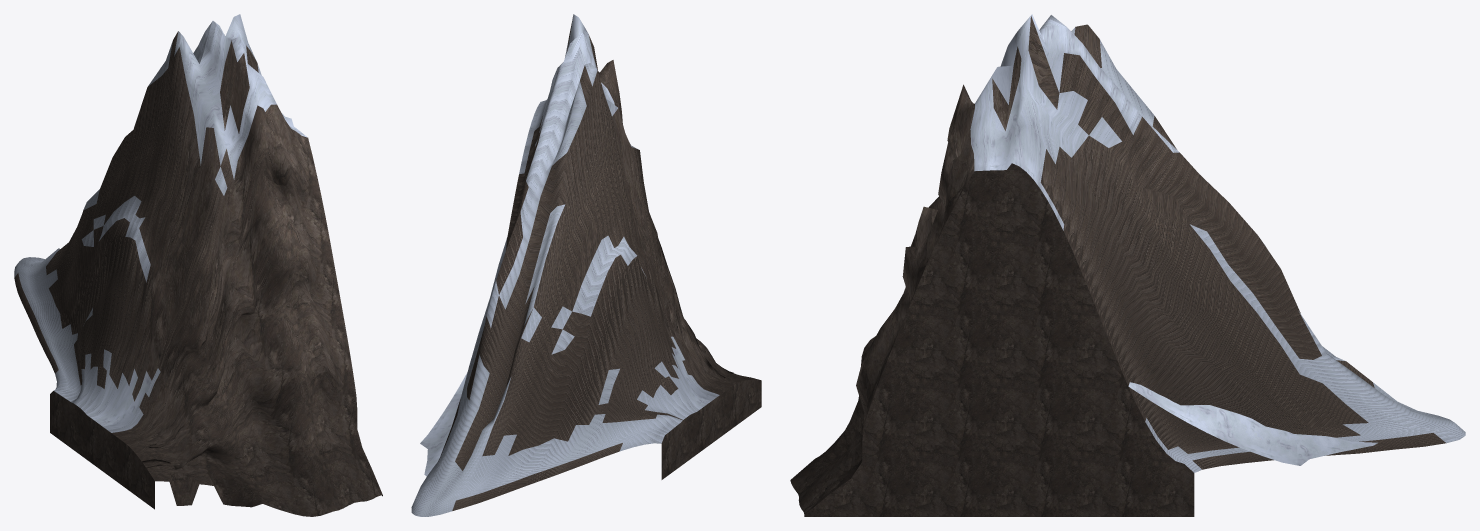
Rendered from seacliff_endcap_left_h8_a_v5_winter.glb.
3 views of the same model, side by side, from view 1: azimuth 30°, elevation 25°; view 2: azimuth 150°, elevation 25°; view 3: azimuth 270°, elevation 25° (orthographic). The views are drawn at different scales.
Visible parts, largest first — view 1: seacliff_endcap_left_h8_a; view 2: seacliff_endcap_left_h8_a; view 3: seacliff_endcap_left_h8_a.
Boxes of the visible parts, bbox=[...] form: seacliff_endcap_left_h8_a: bbox=[14, 14, 382, 516]; seacliff_endcap_left_h8_a: bbox=[411, 14, 761, 516]; seacliff_endcap_left_h8_a: bbox=[790, 14, 1465, 516].
Size of the model in its own units: 6 by 13.06 by 16.72.
2 materials, 2 textured.
